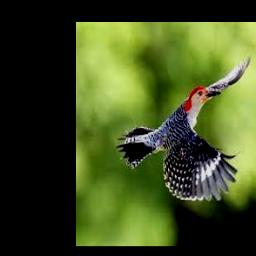Woodpecker: (118, 54, 251, 201)
